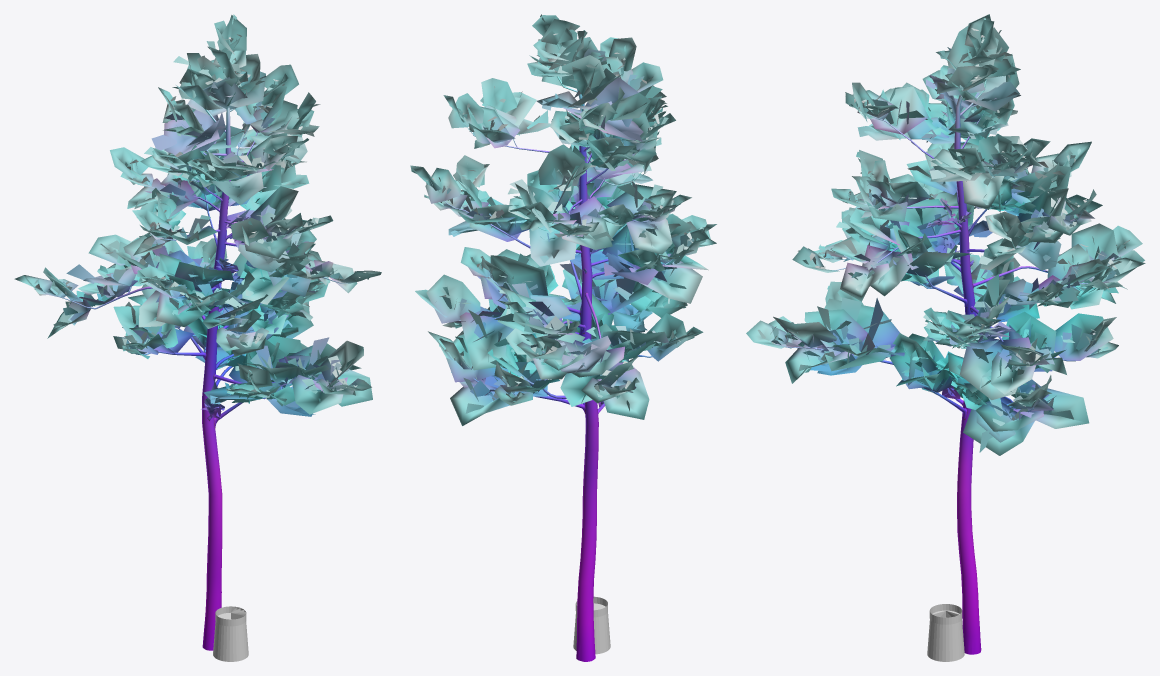
File: KIT_PineLarge3.fbx
The picture shows the model from 3 angles, left to right: view 1: azimuth 30°, elevation 25°; view 2: azimuth 150°, elevation 25°; view 3: azimuth 270°, elevation 25°; orthographic projection. The views are drawn at different scales.
Visible parts, largest first — view 1: Upper_LOD0, Stump_LOD0; view 2: Upper_LOD0, Stump_LOD0; view 3: Upper_LOD0, Stump_LOD0.
Part boxes in pixels (left/top/right/bottom): Upper_LOD0: left=14, top=14, right=381, bottom=650; Stump_LOD0: left=213, top=614, right=248, bottom=661; Upper_LOD0: left=410, top=14, right=716, bottom=661; Stump_LOD0: left=573, top=603, right=610, bottom=654; Upper_LOD0: left=746, top=14, right=1145, bottom=654; Stump_LOD0: left=927, top=610, right=964, bottom=661.
Size of what is drawn, in the model's own units: 781 by 1790 by 1006.
